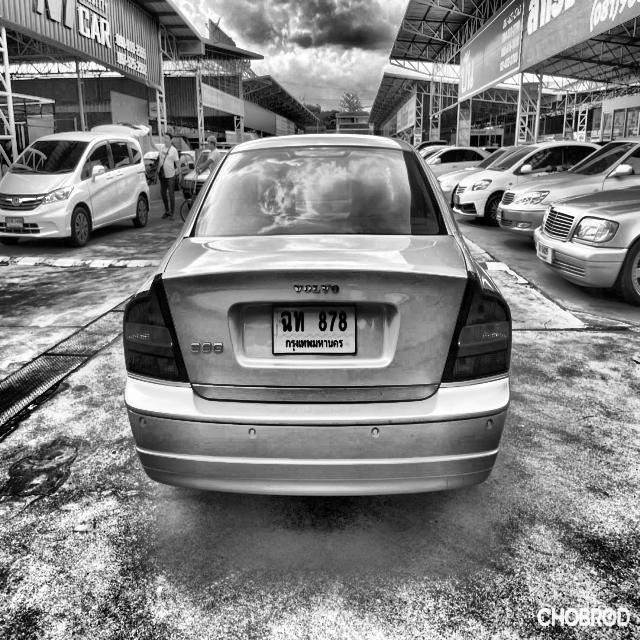license-plate: (271, 299, 358, 358), (538, 237, 554, 265), (5, 215, 25, 230), (496, 206, 504, 222), (453, 192, 460, 206)
